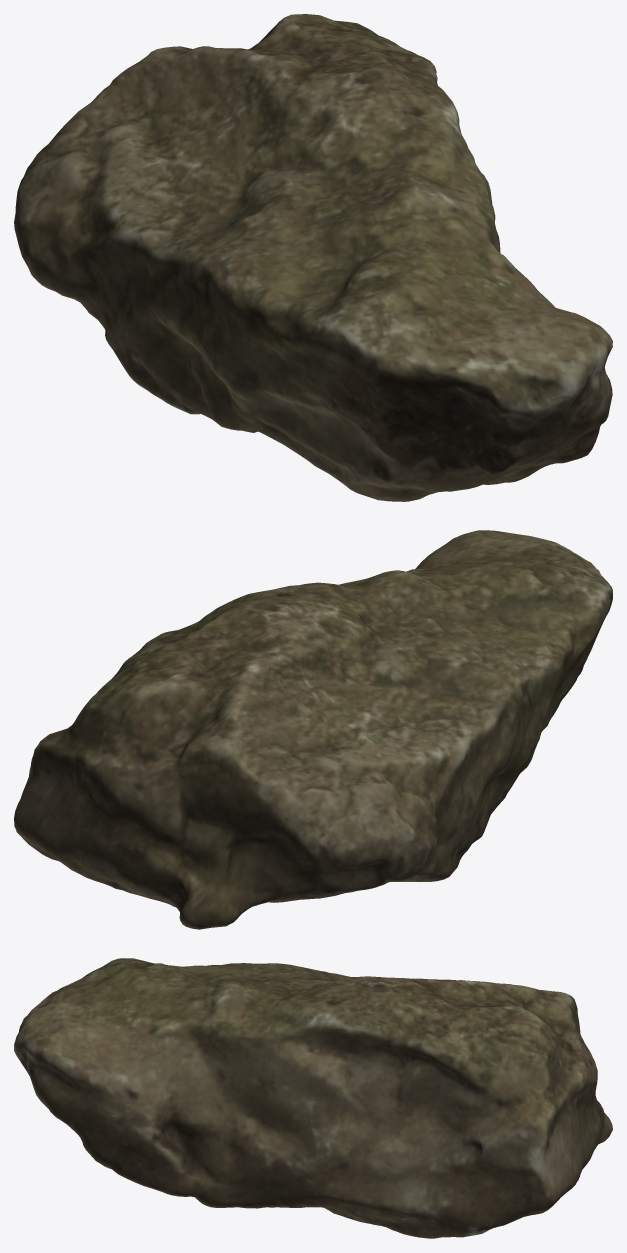
Rendered from B_Rock_05.fbx.
The picture shows the model from 3 angles, top to bottom: view 1: azimuth 30°, elevation 25°; view 2: azimuth 150°, elevation 25°; view 3: azimuth 270°, elevation 25°; orthographic projection. The views are drawn at different scales.
Parts seen in each view (by area): view 1: B_Rock_05_LOD0; view 2: B_Rock_05_LOD0; view 3: B_Rock_05_LOD0.
Part boxes in pixels (box(x1,y1,x2,y2)): B_Rock_05_LOD0: box(14, 14, 612, 501); B_Rock_05_LOD0: box(14, 530, 612, 929); B_Rock_05_LOD0: box(14, 958, 612, 1238).
Size of what is drawn, in the model's own units: 1.94 by 1.29 by 3.2.
